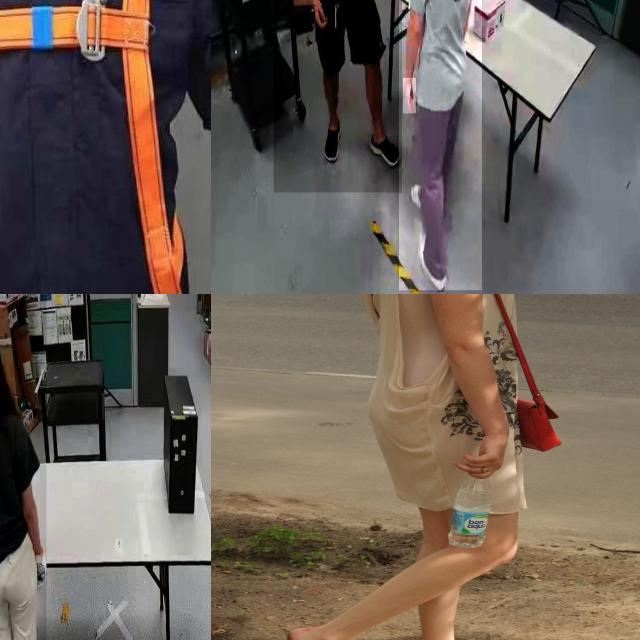Harness: (0, 0, 170, 294)
hand_glove: (36, 557, 52, 588)
hand_noglove: (310, 0, 329, 30), (403, 78, 417, 114)
person: (273, 0, 402, 193), (399, 0, 482, 291), (0, 295, 47, 640)
shoes: (368, 130, 402, 170), (323, 111, 342, 164)
